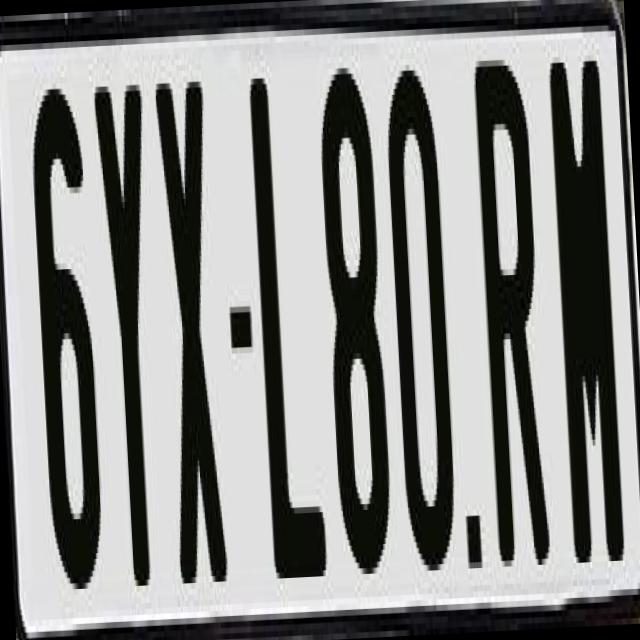0: (382, 69, 466, 595)
6: (24, 88, 108, 591)
8: (315, 61, 394, 604)
L: (246, 59, 332, 562)
M: (545, 44, 625, 552)
R: (468, 47, 550, 561)
X: (150, 82, 226, 584)
Y: (92, 85, 164, 587)
